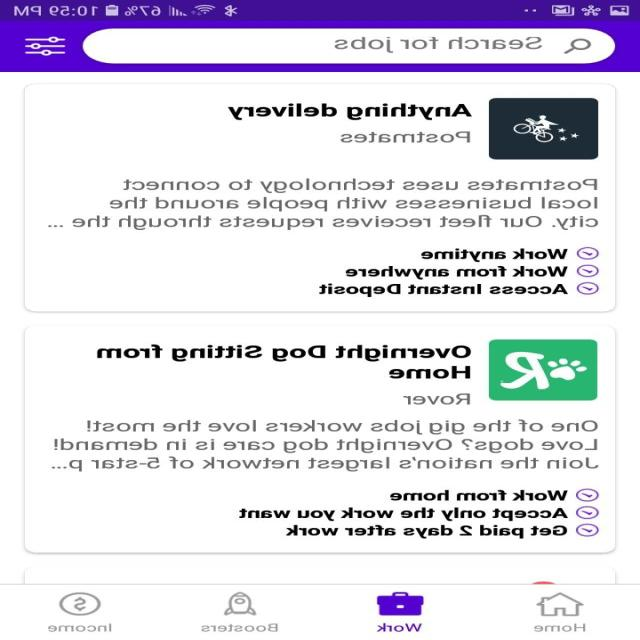EditText: (83, 28, 616, 64)
Icon: (536, 591, 585, 616), (377, 592, 425, 616), (59, 592, 102, 616), (25, 36, 67, 56), (564, 38, 592, 54)
Image: (489, 98, 599, 160), (488, 339, 598, 401), (224, 591, 258, 615)
Text: (49, 178, 599, 230), (51, 419, 600, 471), (97, 344, 472, 379), (239, 506, 569, 521), (228, 103, 472, 120), (286, 524, 568, 538), (334, 36, 543, 53), (319, 283, 569, 297), (346, 265, 568, 279), (421, 248, 569, 262), (390, 489, 569, 500), (341, 130, 472, 142), (404, 392, 472, 404), (202, 623, 280, 632), (49, 623, 113, 632), (534, 622, 587, 632), (377, 622, 423, 632)
